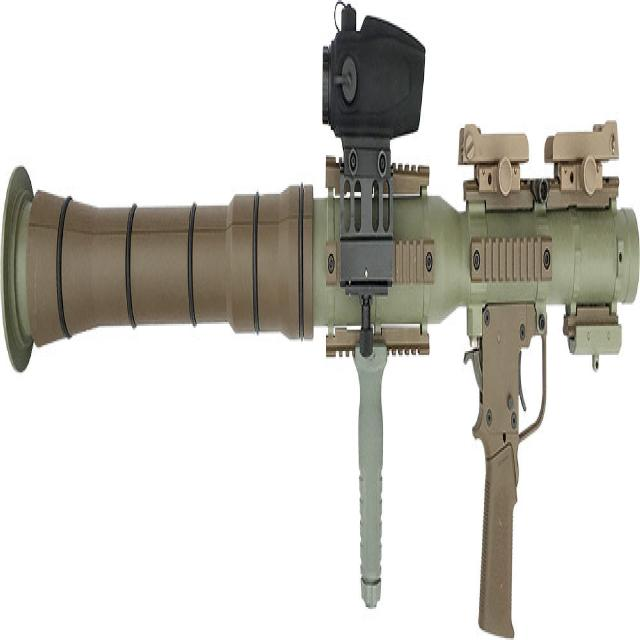bazooka: (3, 1, 640, 640)
